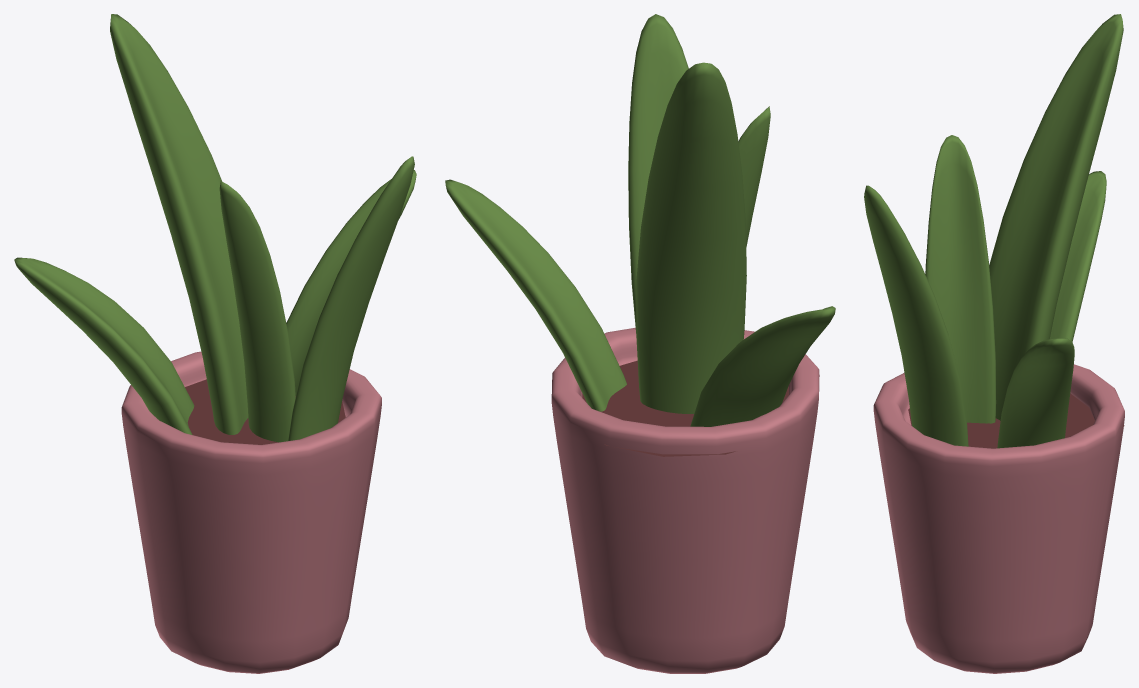
Rendered from bascket.gltf.
3 views of the same model, side by side, from view 1: azimuth 30°, elevation 25°; view 2: azimuth 150°, elevation 25°; view 3: azimuth 270°, elevation 25° (orthographic). The views are drawn at different scales.
Parts seen in each view (by area): view 1: Plant Base, Cube 2, Cube 3, Cube 5, Cube 4, Cube, Ellipse 3; view 2: Plant Base, Cube 2, Cube, Cube 4, Cube 3, Ellipse 3, Cube 5; view 3: Plant Base, Cube 2, Cube 5, Cube 3, Cube, Cube 4, Ellipse 3.
Boxes of the visible parts, x1=… form: Plant Base: x1=121, y1=351, x2=381, y2=673; Cube 2: x1=110, y1=14, x2=248, y2=434; Cube 3: x1=288, y1=156, x2=414, y2=440; Cube 5: x1=219, y1=180, x2=295, y2=442; Cube 4: x1=14, y1=257, x2=194, y2=434; Cube: x1=286, y1=170, x2=416, y2=395; Ellipse 3: x1=185, y1=379, x2=345, y2=444; Plant Base: x1=551, y1=327, x2=819, y2=673; Cube 2: x1=636, y1=62, x2=746, y2=413; Cube: x1=445, y1=179, x2=626, y2=411; Cube 4: x1=690, y1=306, x2=835, y2=426; Cube 3: x1=628, y1=14, x2=688, y2=333; Ellipse 3: x1=582, y1=360, x2=788, y2=456; Cube 5: x1=738, y1=106, x2=770, y2=246; Plant Base: x1=873, y1=364, x2=1124, y2=673; Cube 2: x1=989, y1=14, x2=1123, y2=420; Cube 5: x1=925, y1=135, x2=996, y2=423; Cube 3: x1=864, y1=185, x2=968, y2=446; Cube: x1=997, y1=338, x2=1074, y2=448; Cube 4: x1=1050, y1=171, x2=1106, y2=342; Ellipse 3: x1=908, y1=393, x2=1124, y2=448.
Bounding box in the file's own units: 1.49 × 2.26 × 0.9031.
